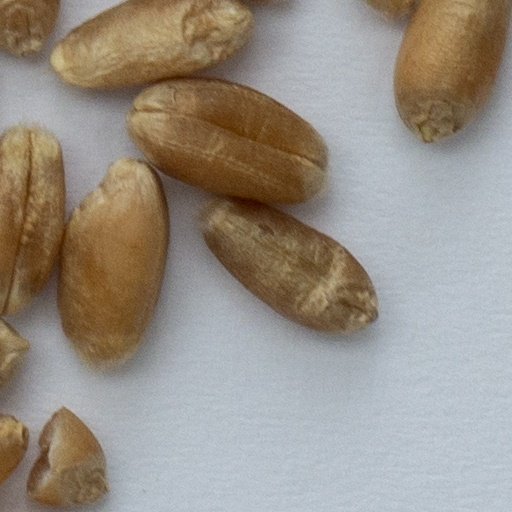Wheat-grain-damaged-poly: (29, 409, 105, 507)
